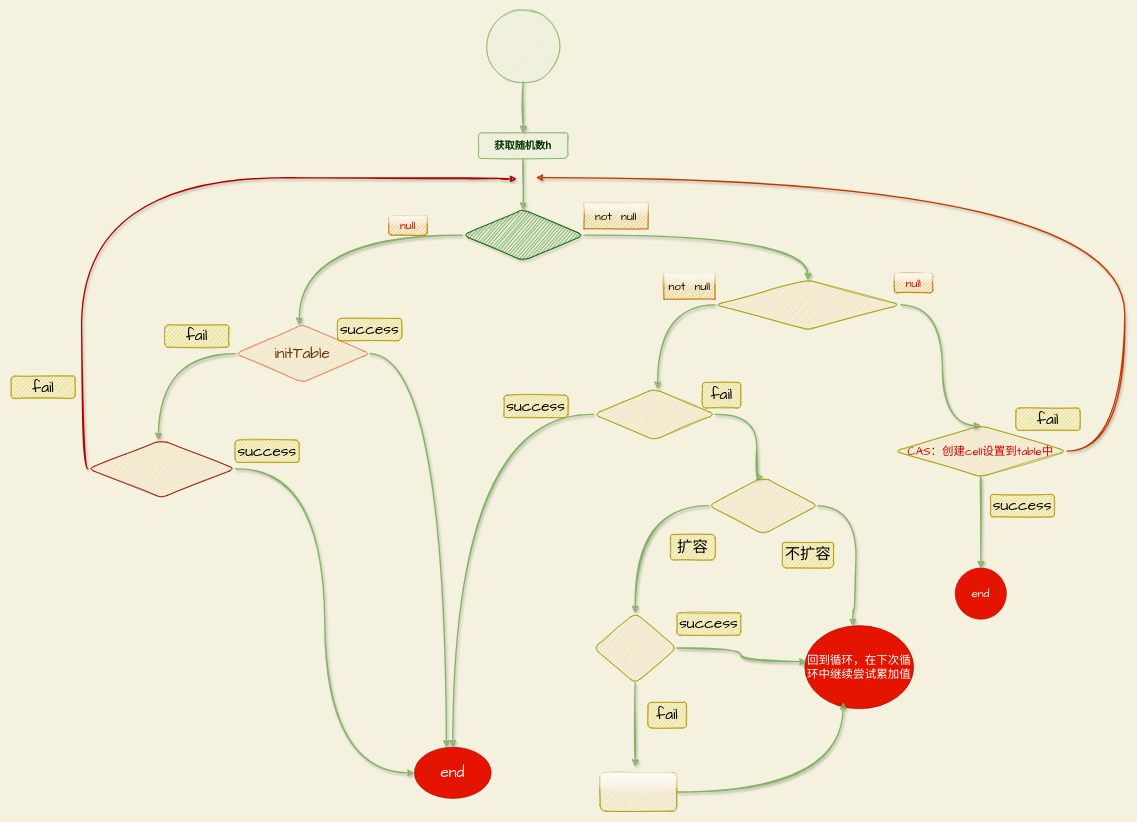
The diagram is 1137 pixels wide and 822 high, and some of its shapes have lost their labels. Each missing label, with the centre of its shape:
CAS:baseCount: (161,468)
CAS:resize: (635,647)
CAS：cell计数: (654,414)
table==null: (523,235)
判断是否扩容: (763,505)
开始: (523,46)
获取到CounterCell对象 简称cell: (808,304)
重新生成随机数: (638,791)
